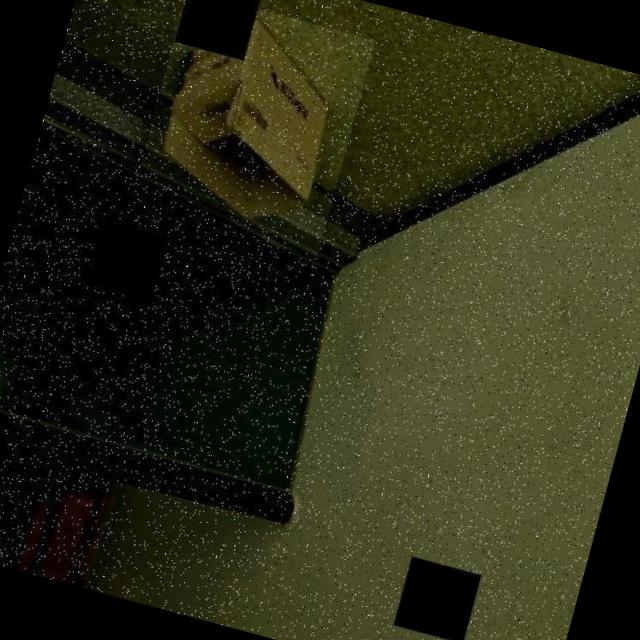box: (129, 0, 376, 257)
